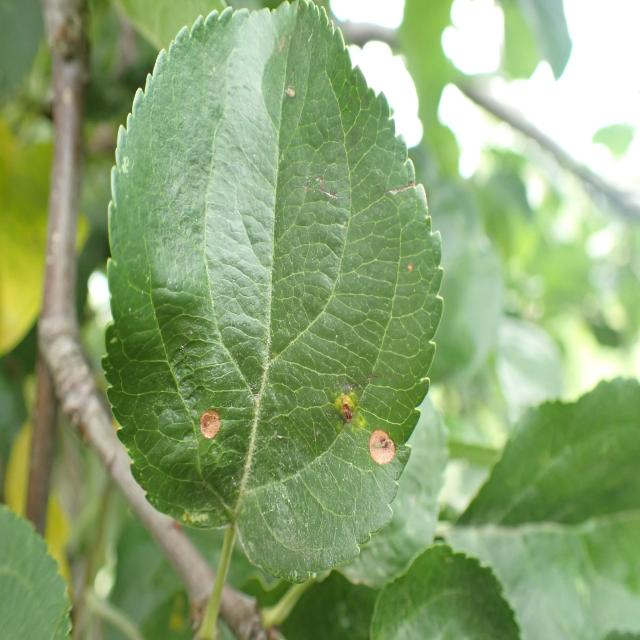Black Rot: (192, 389, 235, 456), (367, 411, 401, 484), (332, 377, 366, 438), (284, 70, 300, 118)
